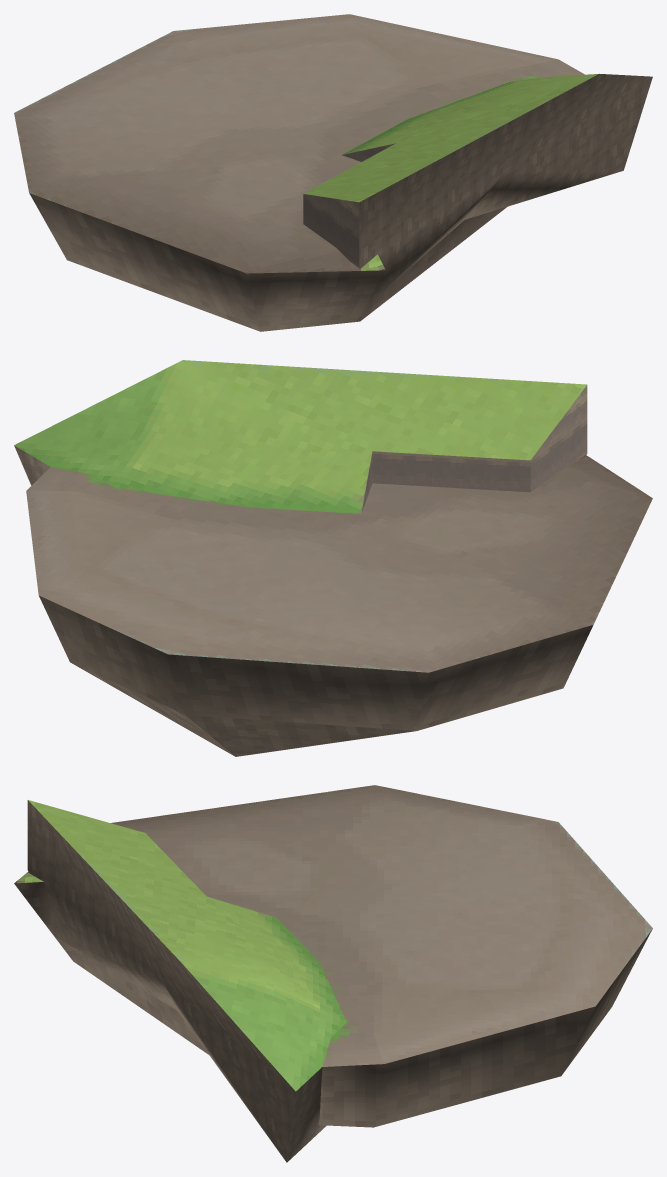
Rendered from 059a_Old_Suntan_Beach.glb.
The picture shows the model from 3 angles, top to bottom: view 1: azimuth 30°, elevation 25°; view 2: azimuth 150°, elevation 25°; view 3: azimuth 270°, elevation 25°; orthographic projection. The views are drawn at different scales.
Parts seen in each view (by area): view 1: part_0; view 2: part_0; view 3: part_0.
Part boxes in pixels (x1,y1,x2,y2): part_0: [14, 14, 652, 331]; part_0: [14, 360, 652, 756]; part_0: [14, 785, 652, 1162].
Bounding box in the file's own units: 136 × 48.34 × 120.
1 material, 1 textured.
